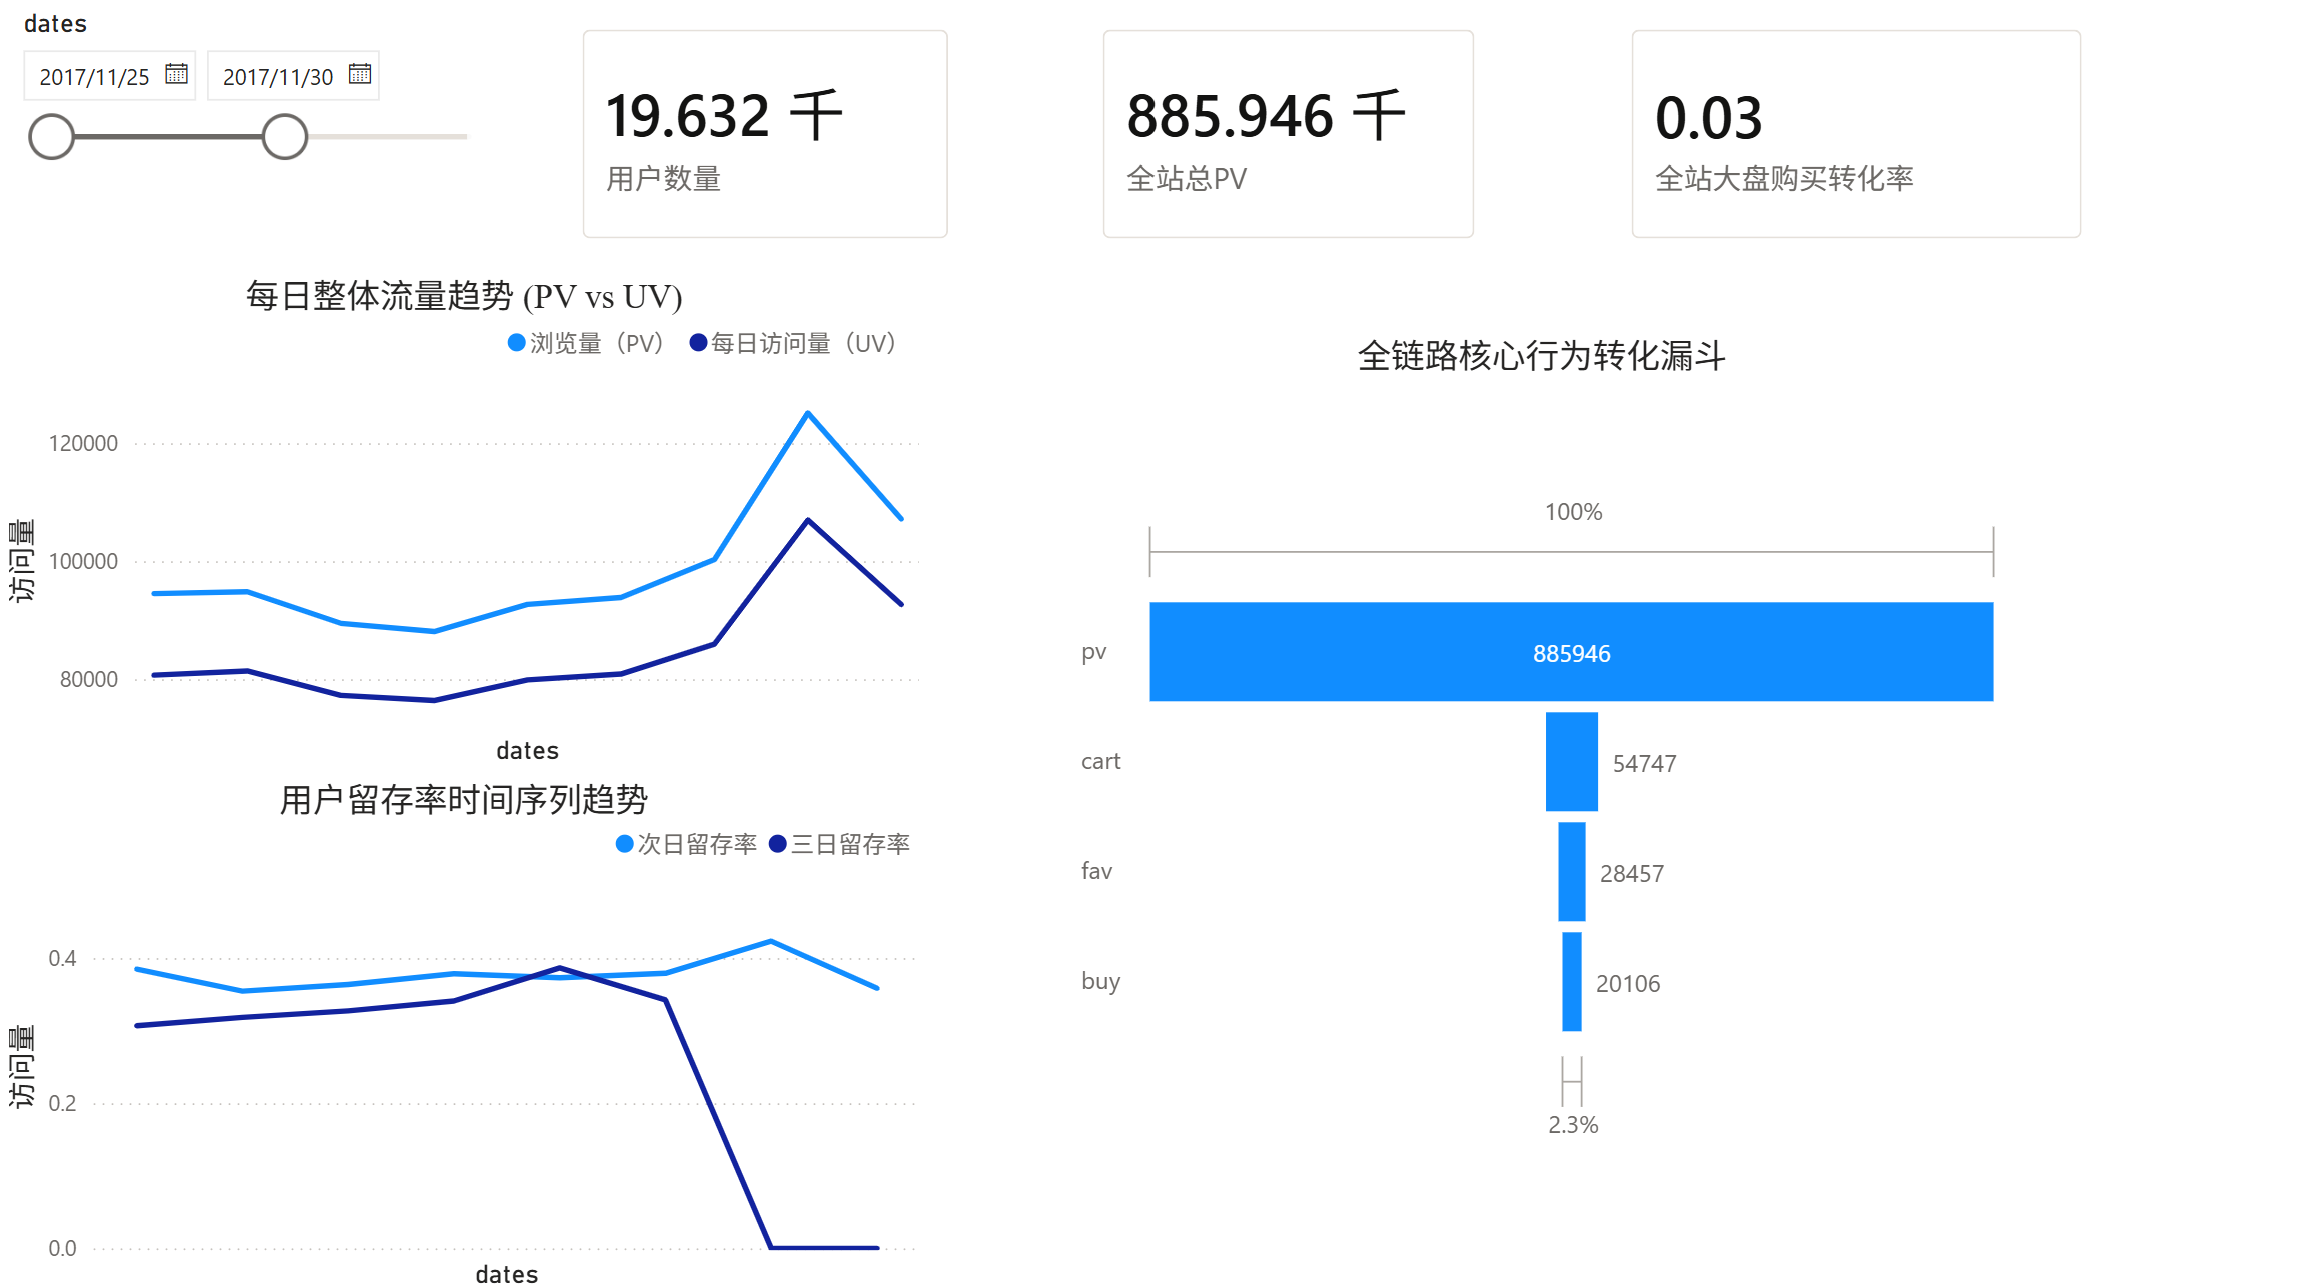

The page's visual inventory and layout, read from the dashboard file:
{"tool":"powerbi","page":{"name":"大盘流量与转化漏斗看板","canvas":[1280,720],"ordinal":0},"visuals":[{"type":"cardVisual","fields":{"Data":["Sum(taobao_data funnel_summary.total_actions)"]},"box":[595.7,0,240,150],"z":0},{"type":"slicer","fields":{"Values":["taobao_data date_hour_behavior.dates"]},"box":[0,0,282.9,150],"z":2000},{"type":"lineChart","title":"每日整体流量趋势 (PV vs UV)","fields":{"Y":["Sum(taobao_data pv_uv_puv.pv)","Sum(taobao_data pv_uv_puv.uv)"],"Category":["taobao_data pv_uv_puv.dates"]},"box":[0,150,515.7,280],"z":3000},{"type":"lineChart","title":"用户留存率时间序列趋势","fields":{"Category":["taobao_data retention_rate.dates"],"Y":["Sum(taobao_data retention_rate.retention_1_rate)","Sum(taobao_data retention_rate.retention_3_rate)"]},"box":[0,430,515.7,291.4],"z":4000},{"type":"funnel","title":"全链路核心行为转化漏斗","fields":{"Category":["taobao_data funnel_summary.behavior_type"],"Y":["Sum(taobao_data funnel_summary.total_actions)"]},"box":[595.7,182.9,521.4,521.4],"z":5000},{"type":"cardVisual","fields":{"Data":["Count(taobao_data rfm_model.user_id)"]},"box":[307.1,0,237.1,150],"z":5001},{"type":"cardVisual","fields":{"Data":["Avg(taobao_data category_detail.user_buy_rate)"]},"box":[888.6,0,284.3,150],"z":5002}]}

Visuals, with their boxes in screenshot pixels (x1, y1, x2, y2), scaled from the page's 1280x720 canvas onto the 2300x1286 screenshot:
cardVisual - Sum(taobao_data funnel_summary.total_actions): (x1=1070, y1=0, x2=1502, y2=268)
slicer - taobao_data date_hour_behavior.dates: (x1=0, y1=0, x2=508, y2=268)
"每日整体流量趋势 (PV vs UV)" lineChart: (x1=0, y1=268, x2=927, y2=768)
"用户留存率时间序列趋势" lineChart: (x1=0, y1=768, x2=927, y2=1285)
"全链路核心行为转化漏斗" funnel: (x1=1070, y1=327, x2=2007, y2=1258)
cardVisual - Count(taobao_data rfm_model.user_id): (x1=552, y1=0, x2=978, y2=268)
cardVisual - Avg(taobao_data category_detail.user_buy_rate): (x1=1597, y1=0, x2=2108, y2=268)
